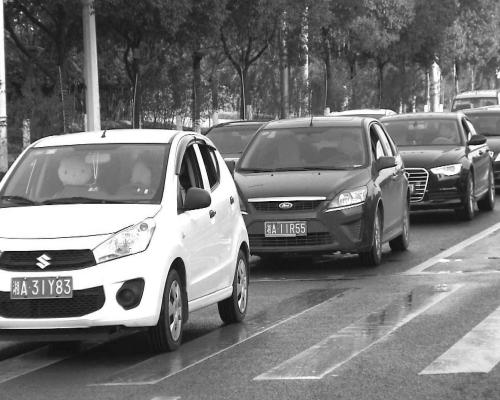Carplate: (6, 272, 77, 304), (258, 218, 313, 240)
